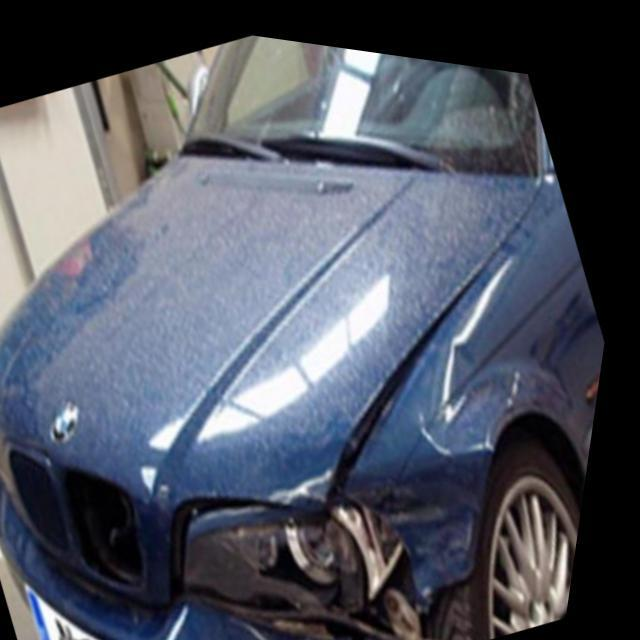dent: (375, 462, 493, 578)
dislocated part: (338, 190, 535, 492)
lamp broken: (203, 480, 467, 640)
